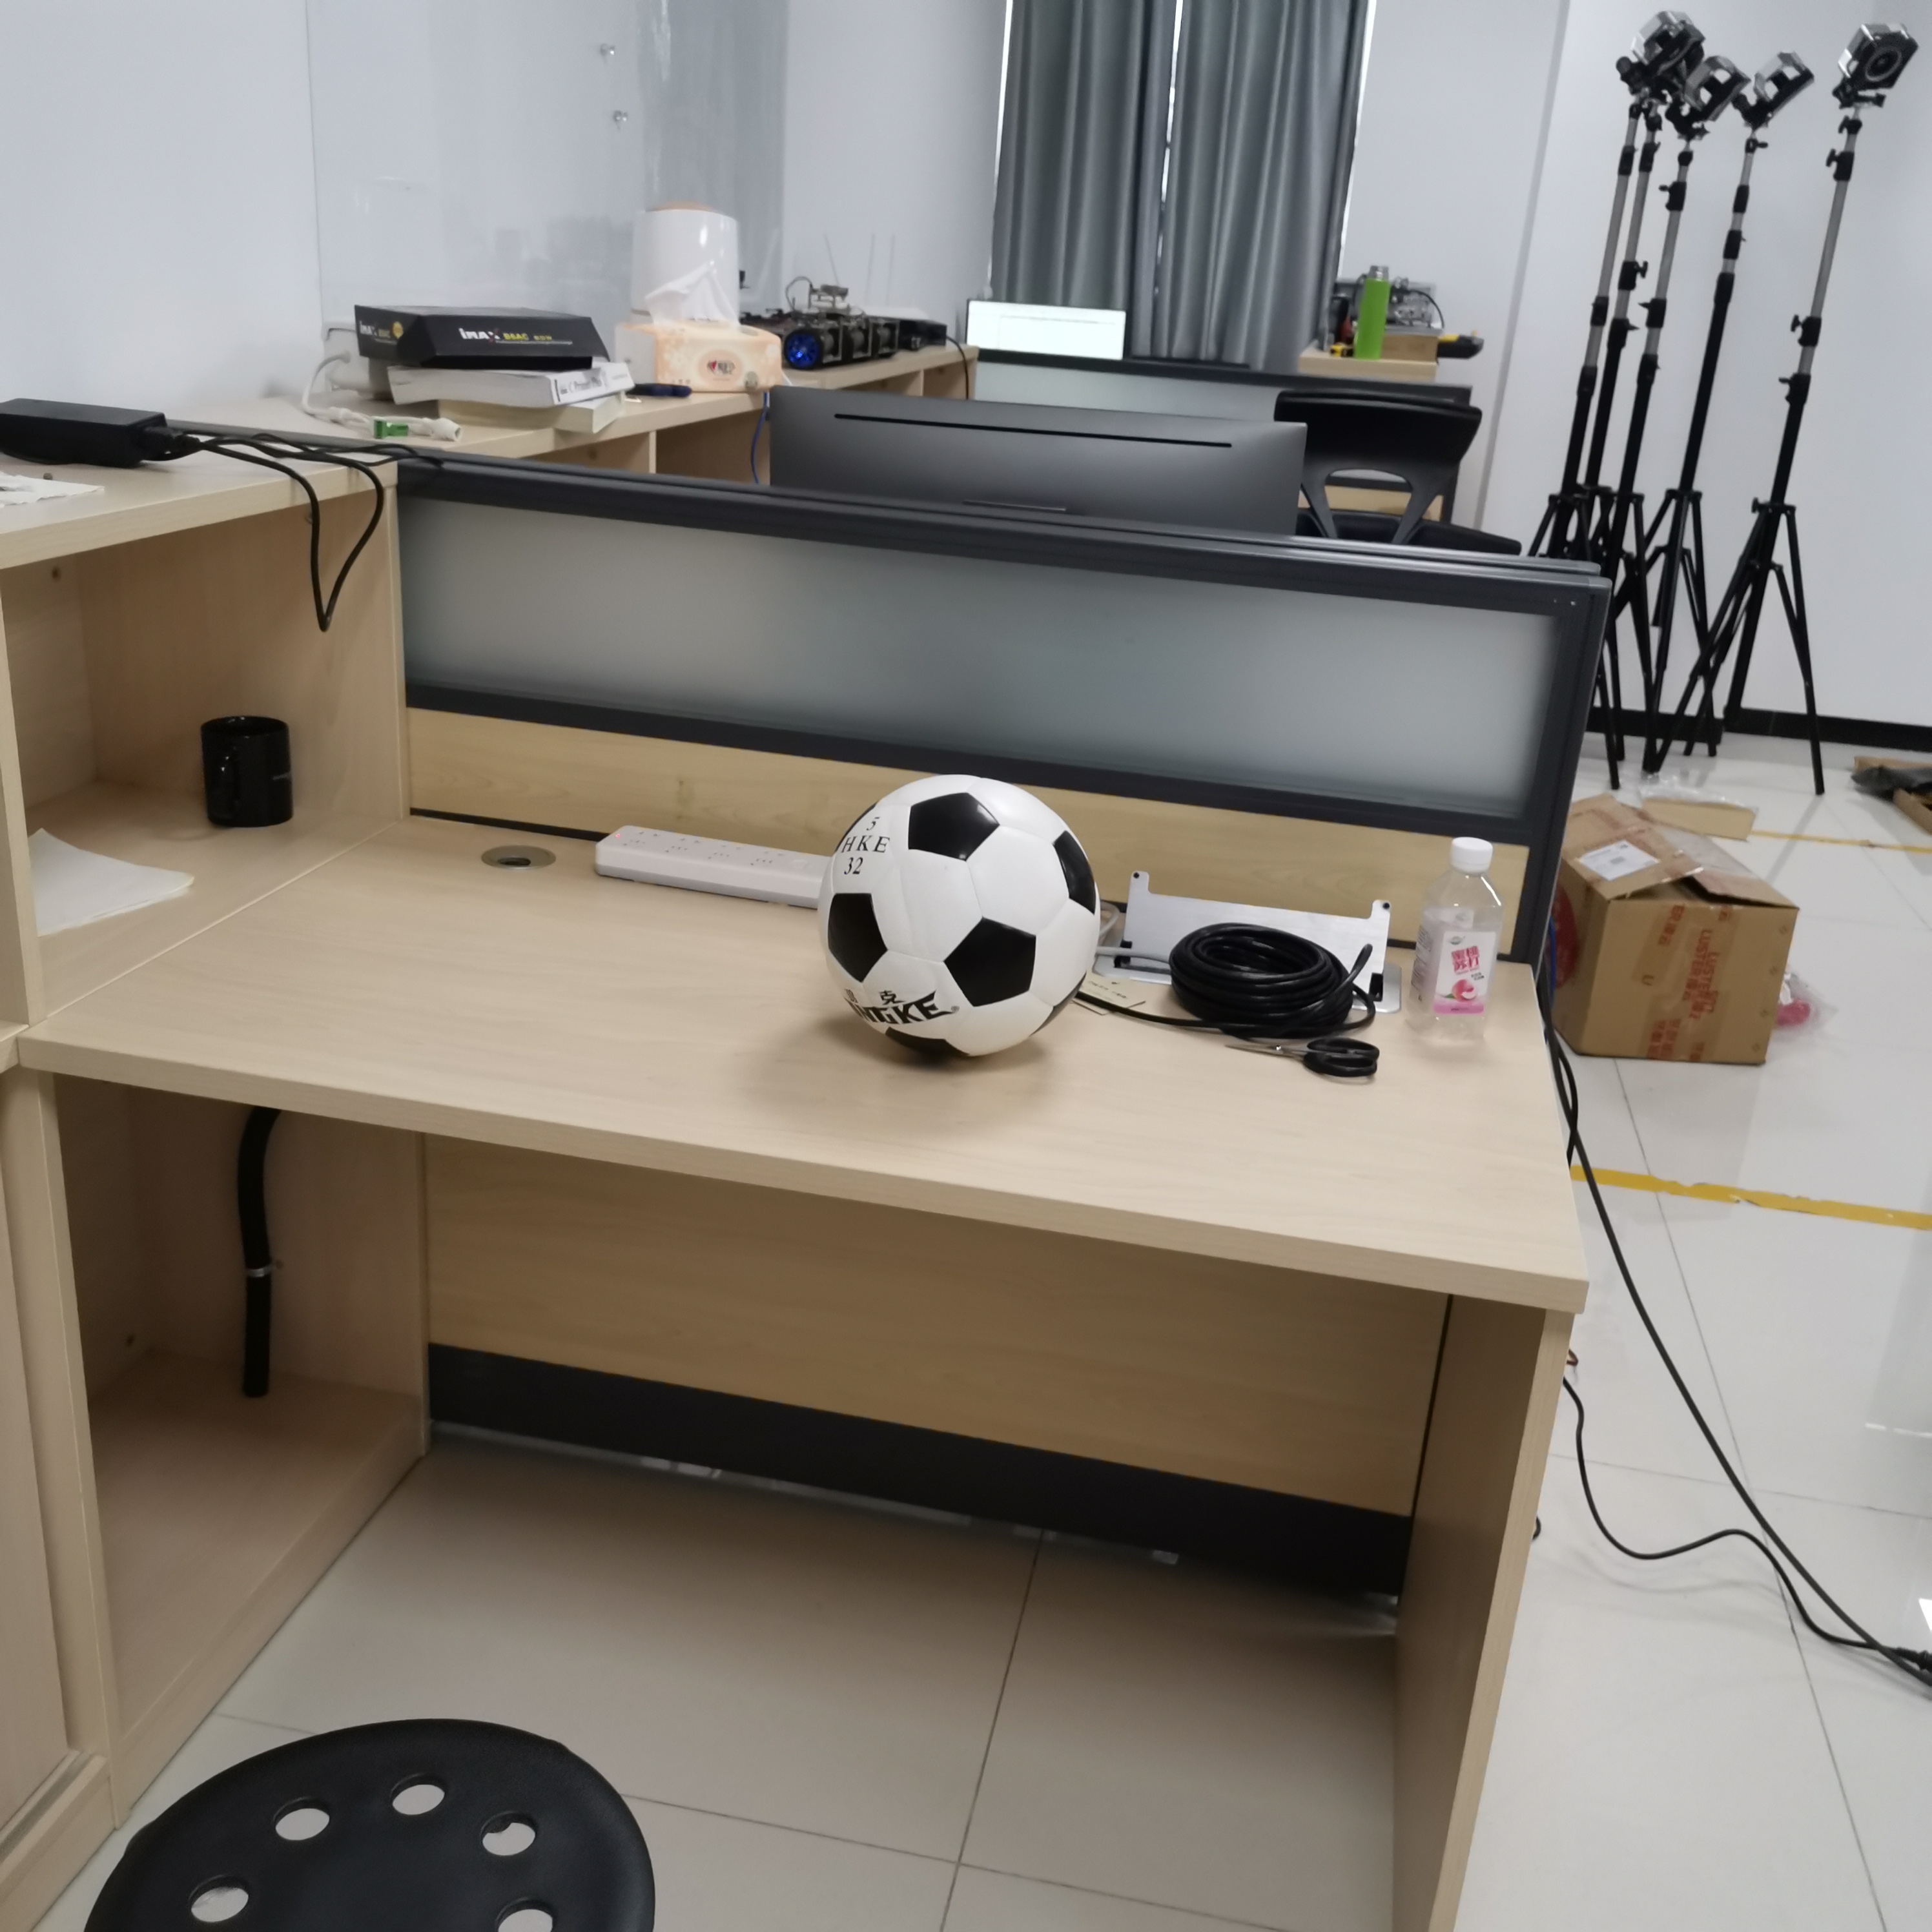football: (819, 771, 1100, 1060)
